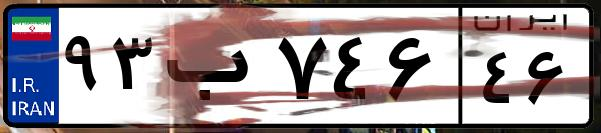3: (110, 28, 158, 98)
4: (330, 28, 385, 110), (475, 38, 525, 113)
6: (385, 28, 445, 110), (525, 38, 570, 115)
7: (270, 28, 330, 110)
9: (57, 26, 110, 100)
ب: (158, 20, 270, 120)
